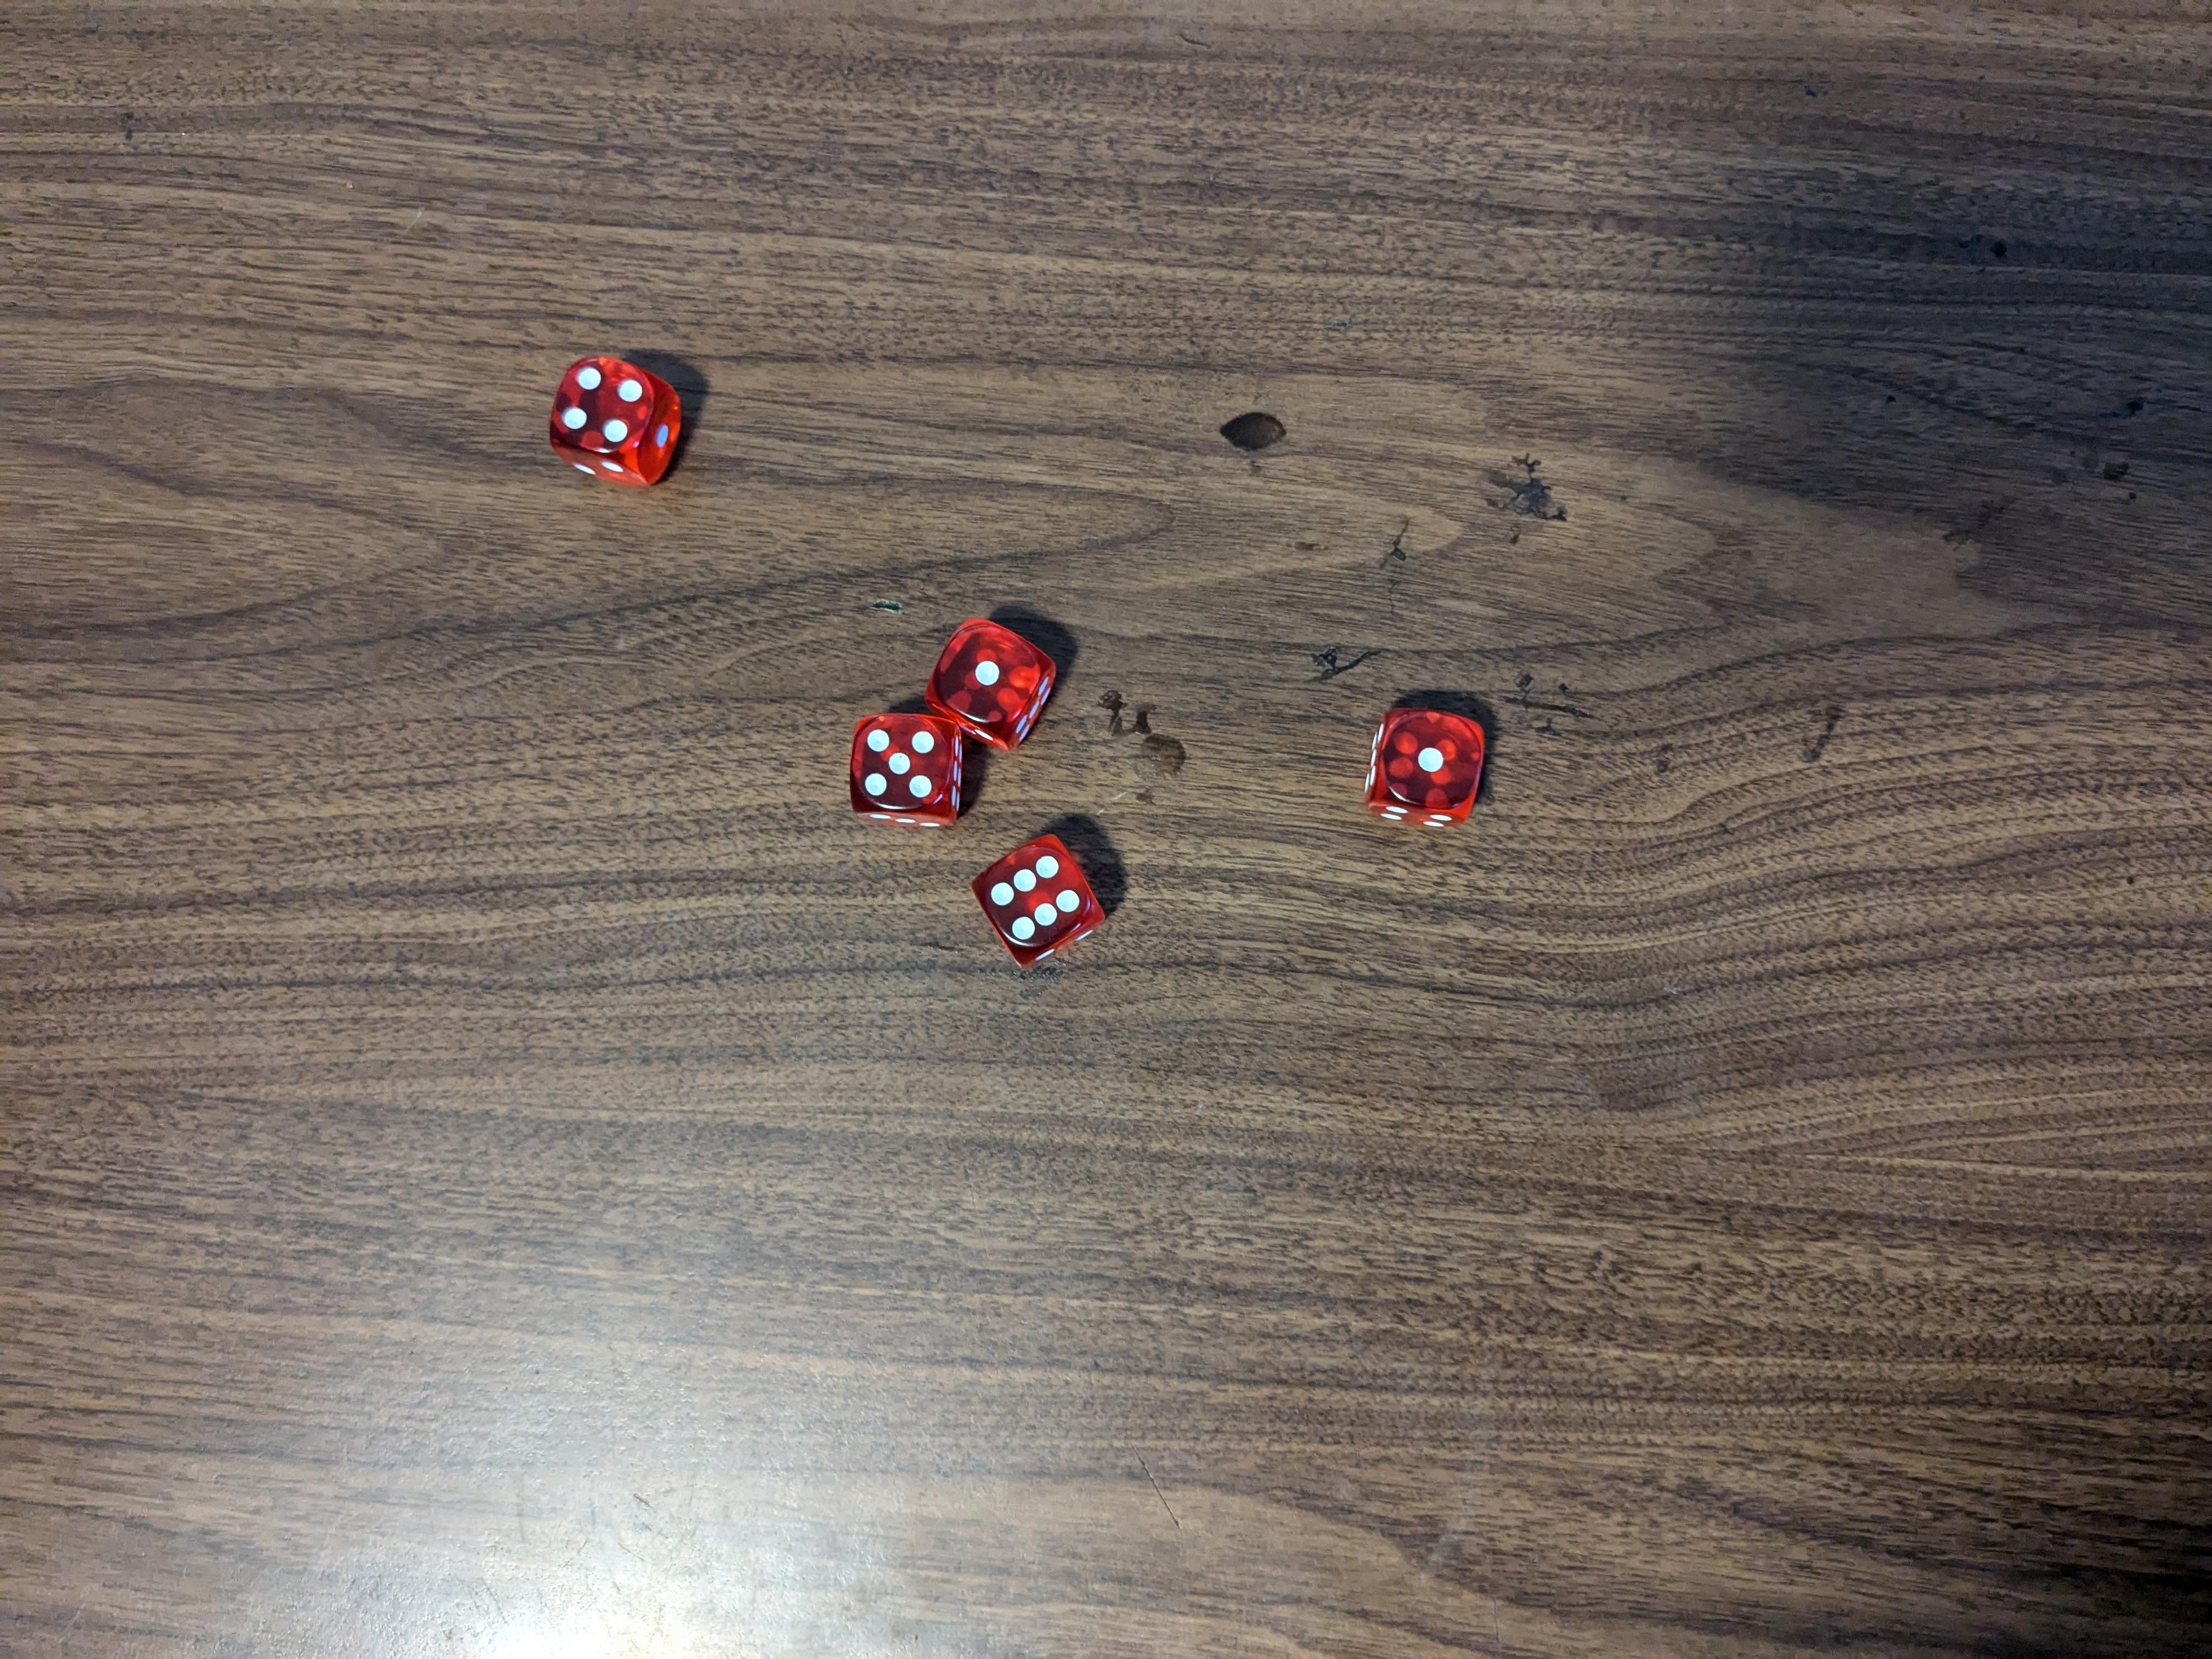five: (846, 716, 970, 828)
four: (547, 350, 690, 498)
one: (923, 613, 1069, 751), (1364, 708, 1493, 835)
six: (968, 828, 1115, 976)
